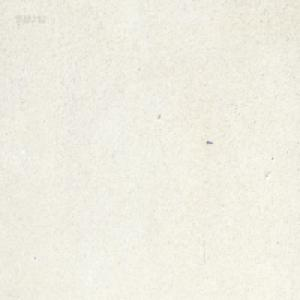Nail: (206, 139, 213, 144)
